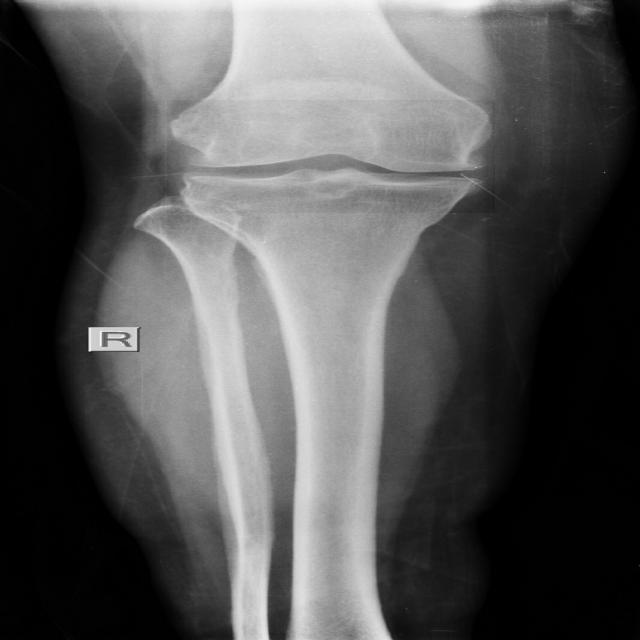normal: (167, 100, 495, 213)
